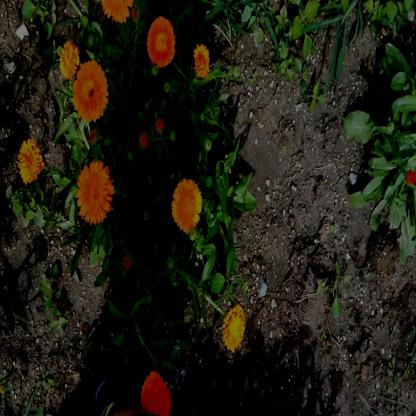marigold: (77, 161, 112, 221), (74, 61, 106, 119), (172, 178, 200, 232), (146, 16, 175, 65), (139, 372, 169, 414), (17, 140, 41, 180), (222, 307, 244, 349), (57, 41, 76, 78), (193, 44, 209, 75)
